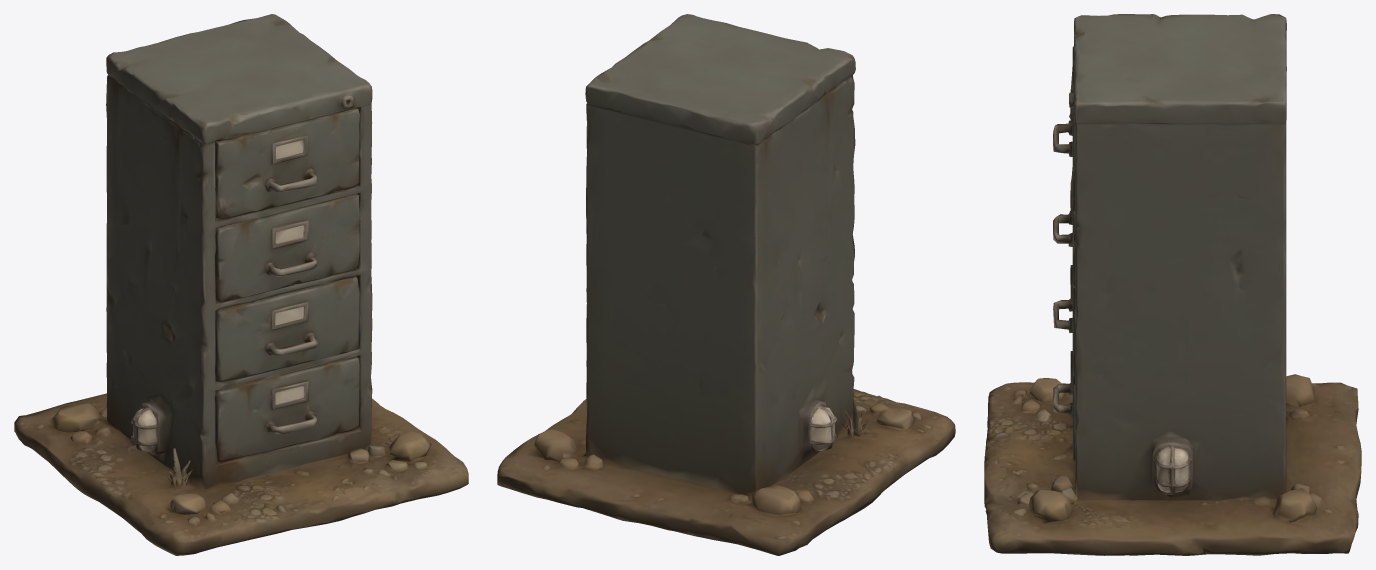
File: office_filing_cabinet.glb
3 renders of one model, left to right at view 1: azimuth 30°, elevation 25°; view 2: azimuth 150°, elevation 25°; view 3: azimuth 270°, elevation 25°, orthographic. The views are drawn at different scales.
Parts seen in each view (by area): view 1: tripo_node_15d153c4-f875-44aa-9f05-eb50e60641dd; view 2: tripo_node_15d153c4-f875-44aa-9f05-eb50e60641dd; view 3: tripo_node_15d153c4-f875-44aa-9f05-eb50e60641dd.
Part boxes in pixels (x1,y1,x2,y2): tripo_node_15d153c4-f875-44aa-9f05-eb50e60641dd: (14,14,468,555); tripo_node_15d153c4-f875-44aa-9f05-eb50e60641dd: (497,14,955,555); tripo_node_15d153c4-f875-44aa-9f05-eb50e60641dd: (984,14,1361,555).
Bounding box in the file's own units: 0.8173 × 1 × 0.8141.
1 material, 1 textured.
